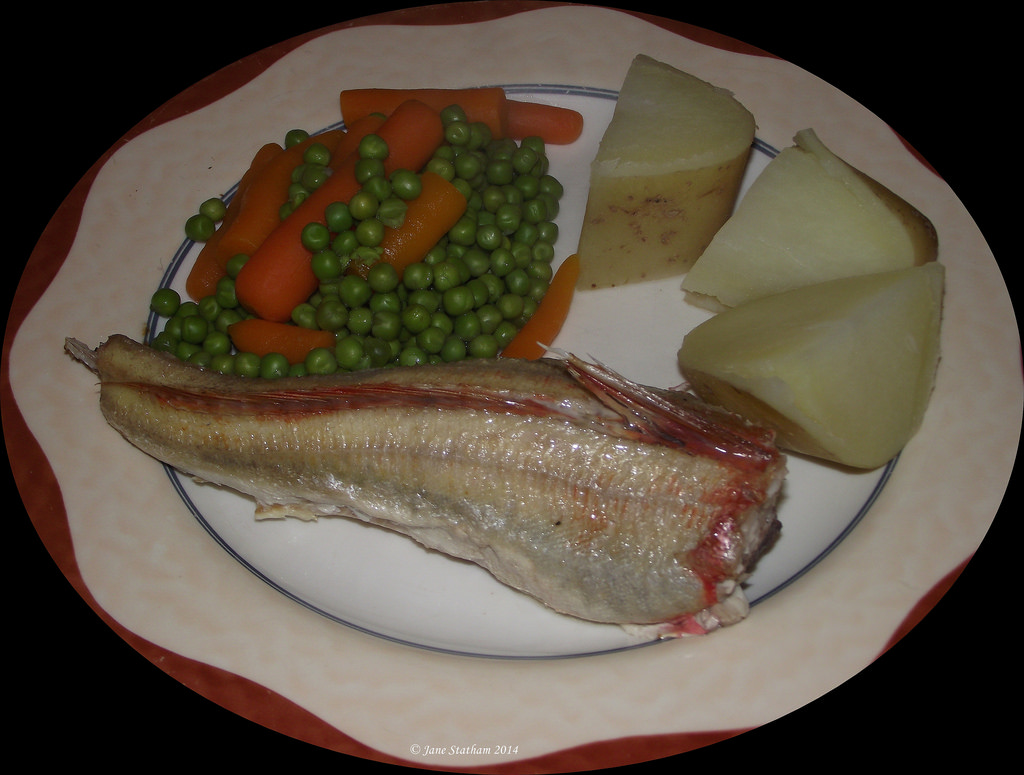boiled peas: (254, 187, 552, 358)
boiled potatoes: (589, 57, 965, 486), (675, 268, 951, 482)
